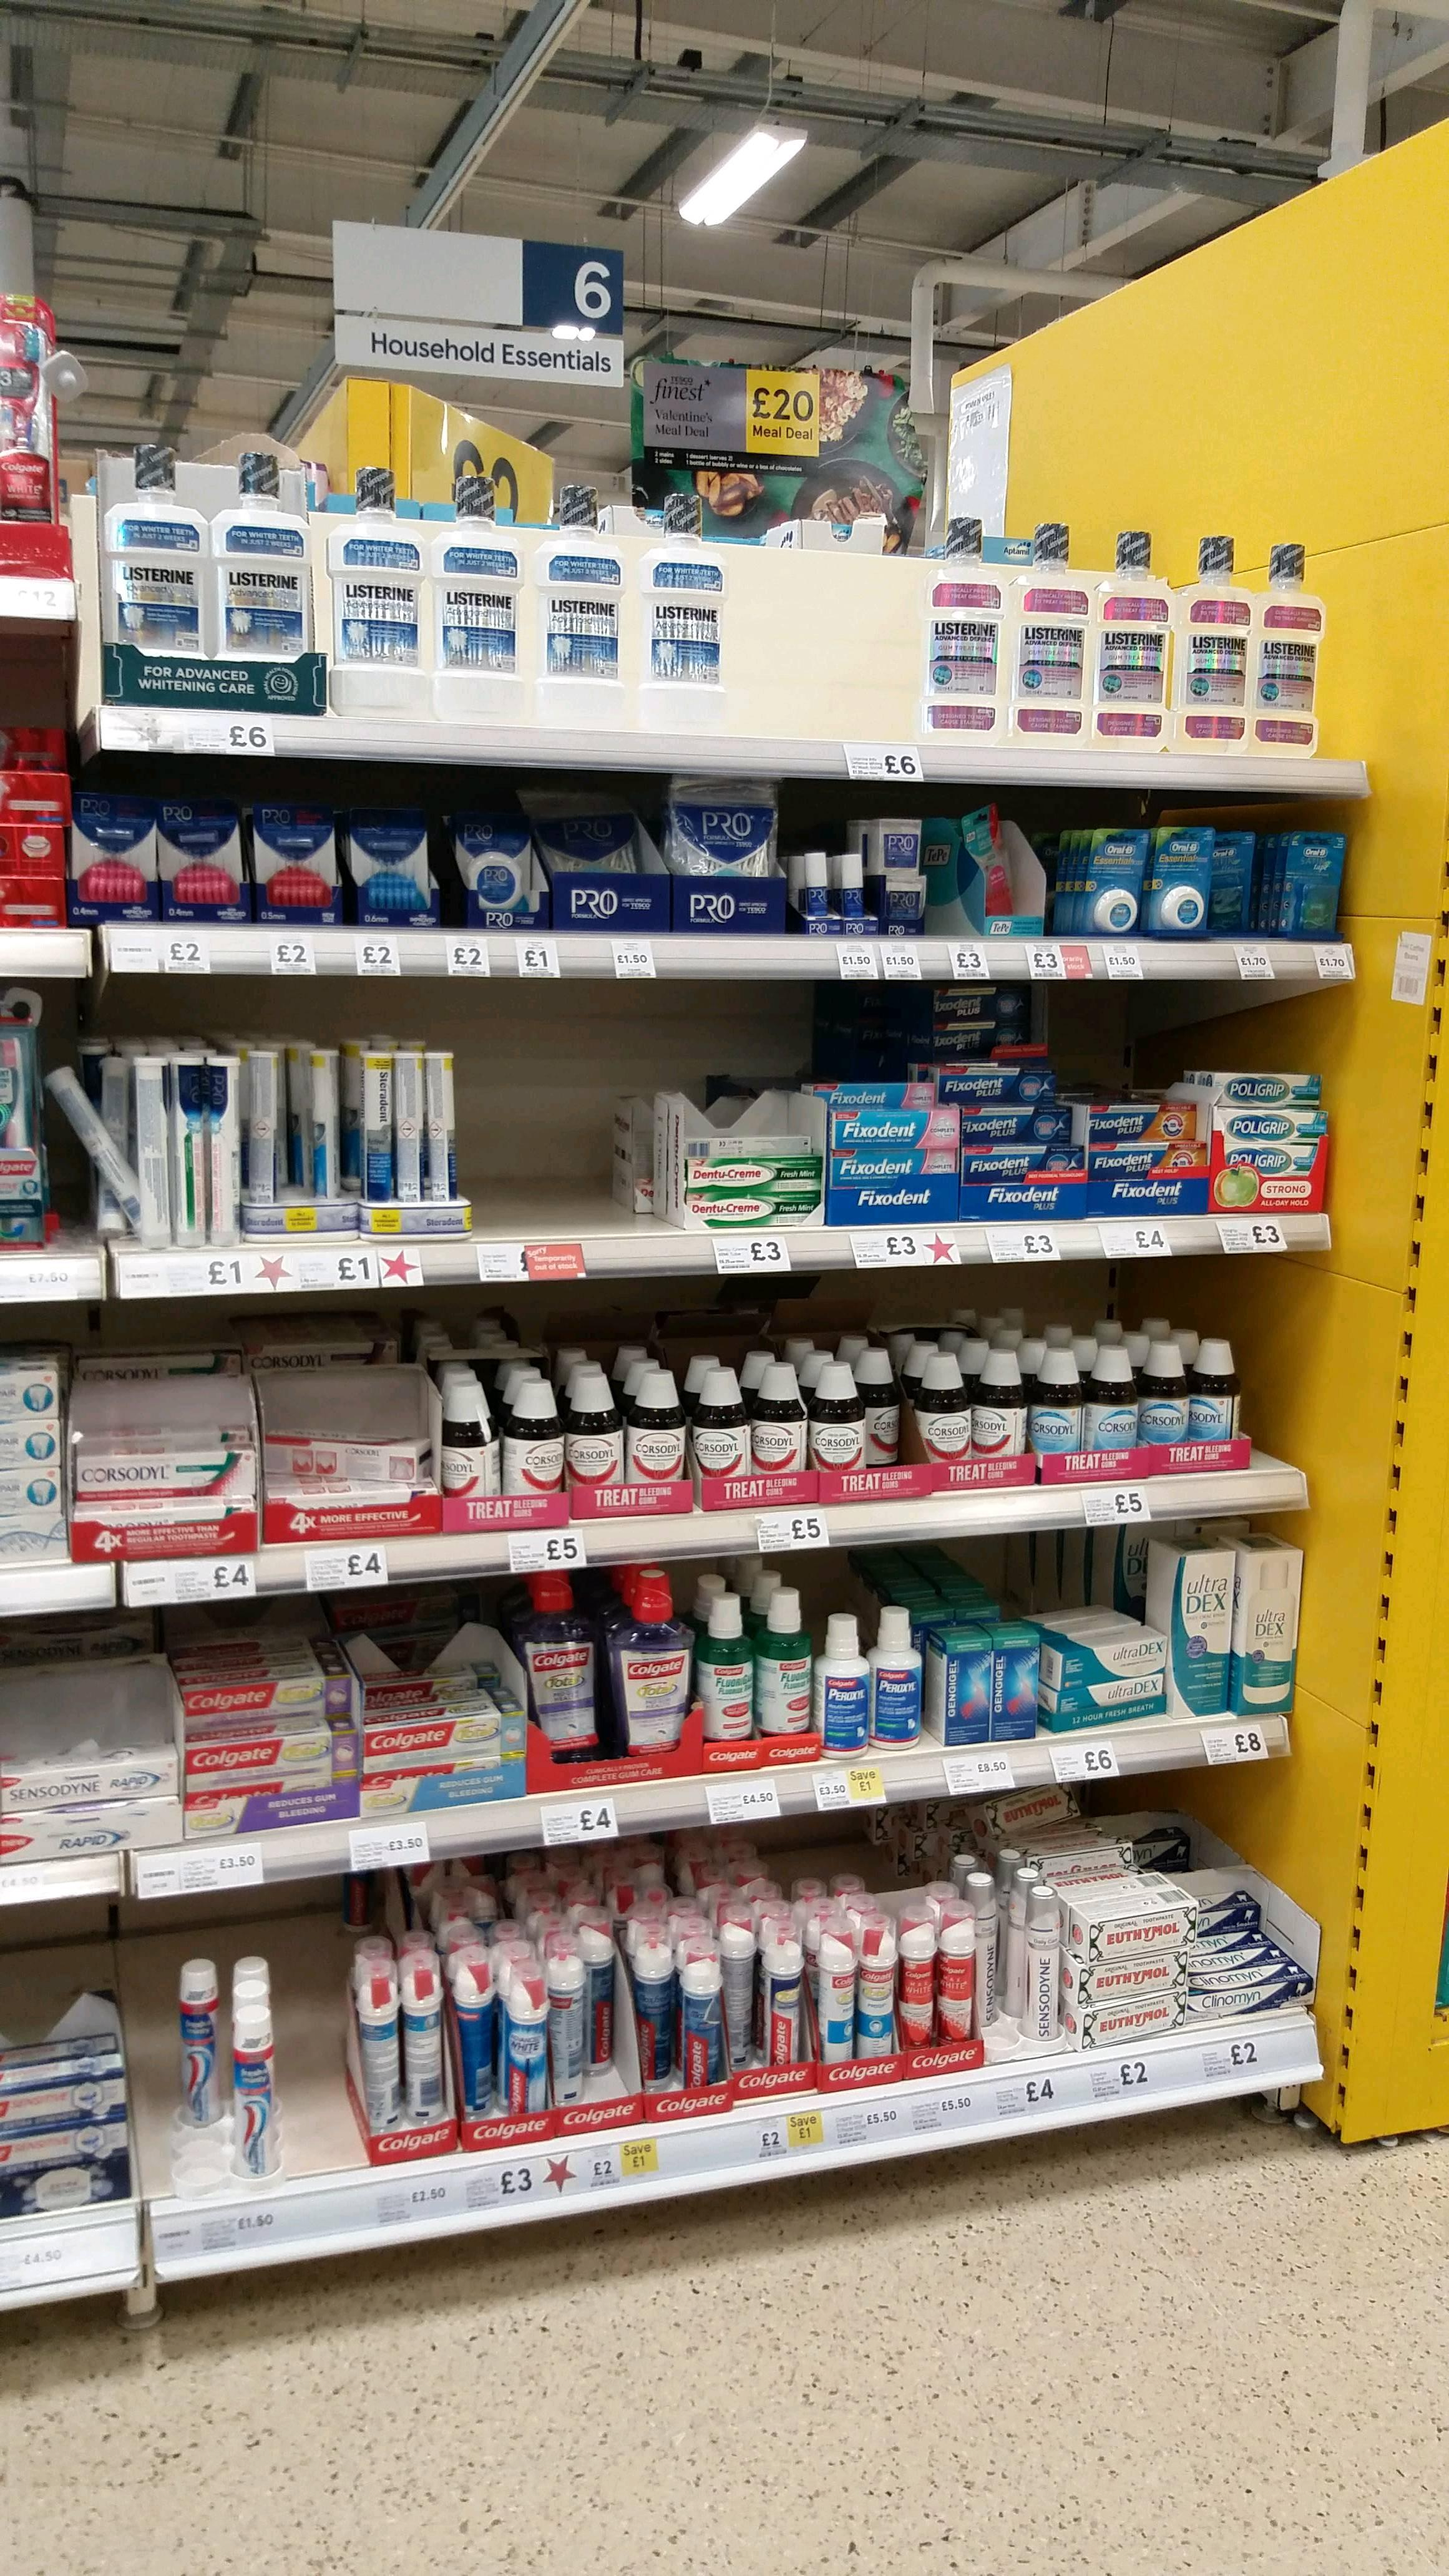empty: (464, 1049, 632, 1235), (269, 1955, 364, 2171), (725, 563, 830, 741), (824, 563, 927, 741)
